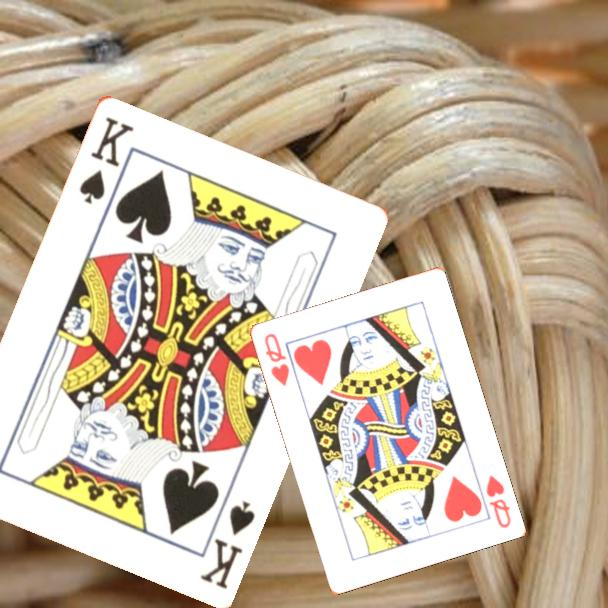h12: (260, 329, 292, 389), (482, 471, 513, 531)
s13: (75, 112, 137, 207), (196, 496, 258, 591)
